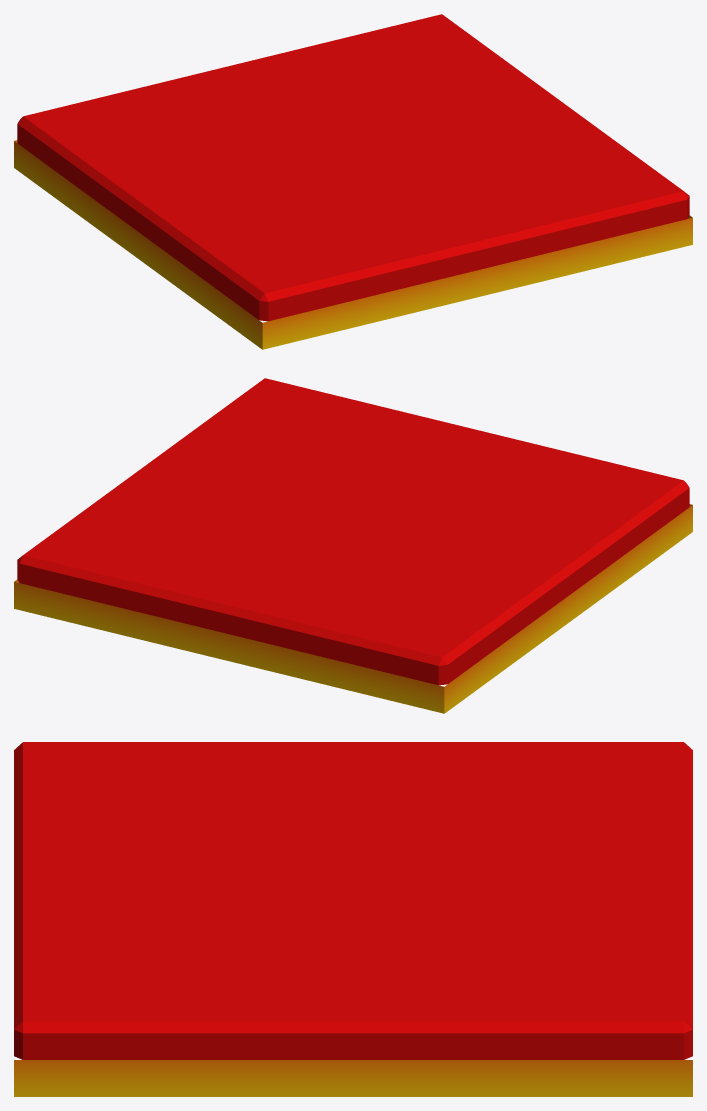
Rendered from SM_Env_StepBlock.fbx.
3 renders of one model, top to bottom at view 1: azimuth 30°, elevation 25°; view 2: azimuth 150°, elevation 25°; view 3: azimuth 270°, elevation 25°, orthographic. The views are drawn at different scales.
Parts seen in each view (by area): view 1: SM_Env_StepBlock; view 2: SM_Env_StepBlock; view 3: SM_Env_StepBlock.
Boxes of the visible parts, x1,y1,x2,y2 form: SM_Env_StepBlock: (14, 14, 692, 349); SM_Env_StepBlock: (14, 378, 692, 713); SM_Env_StepBlock: (14, 742, 692, 1096).
Size of the model in its own units: 3 by 0.35 by 3.
